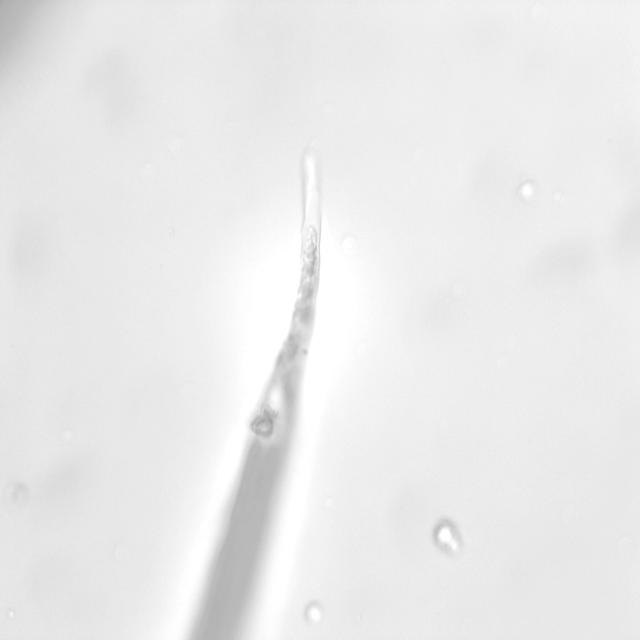Meloidogyne: (246, 144, 343, 397)
